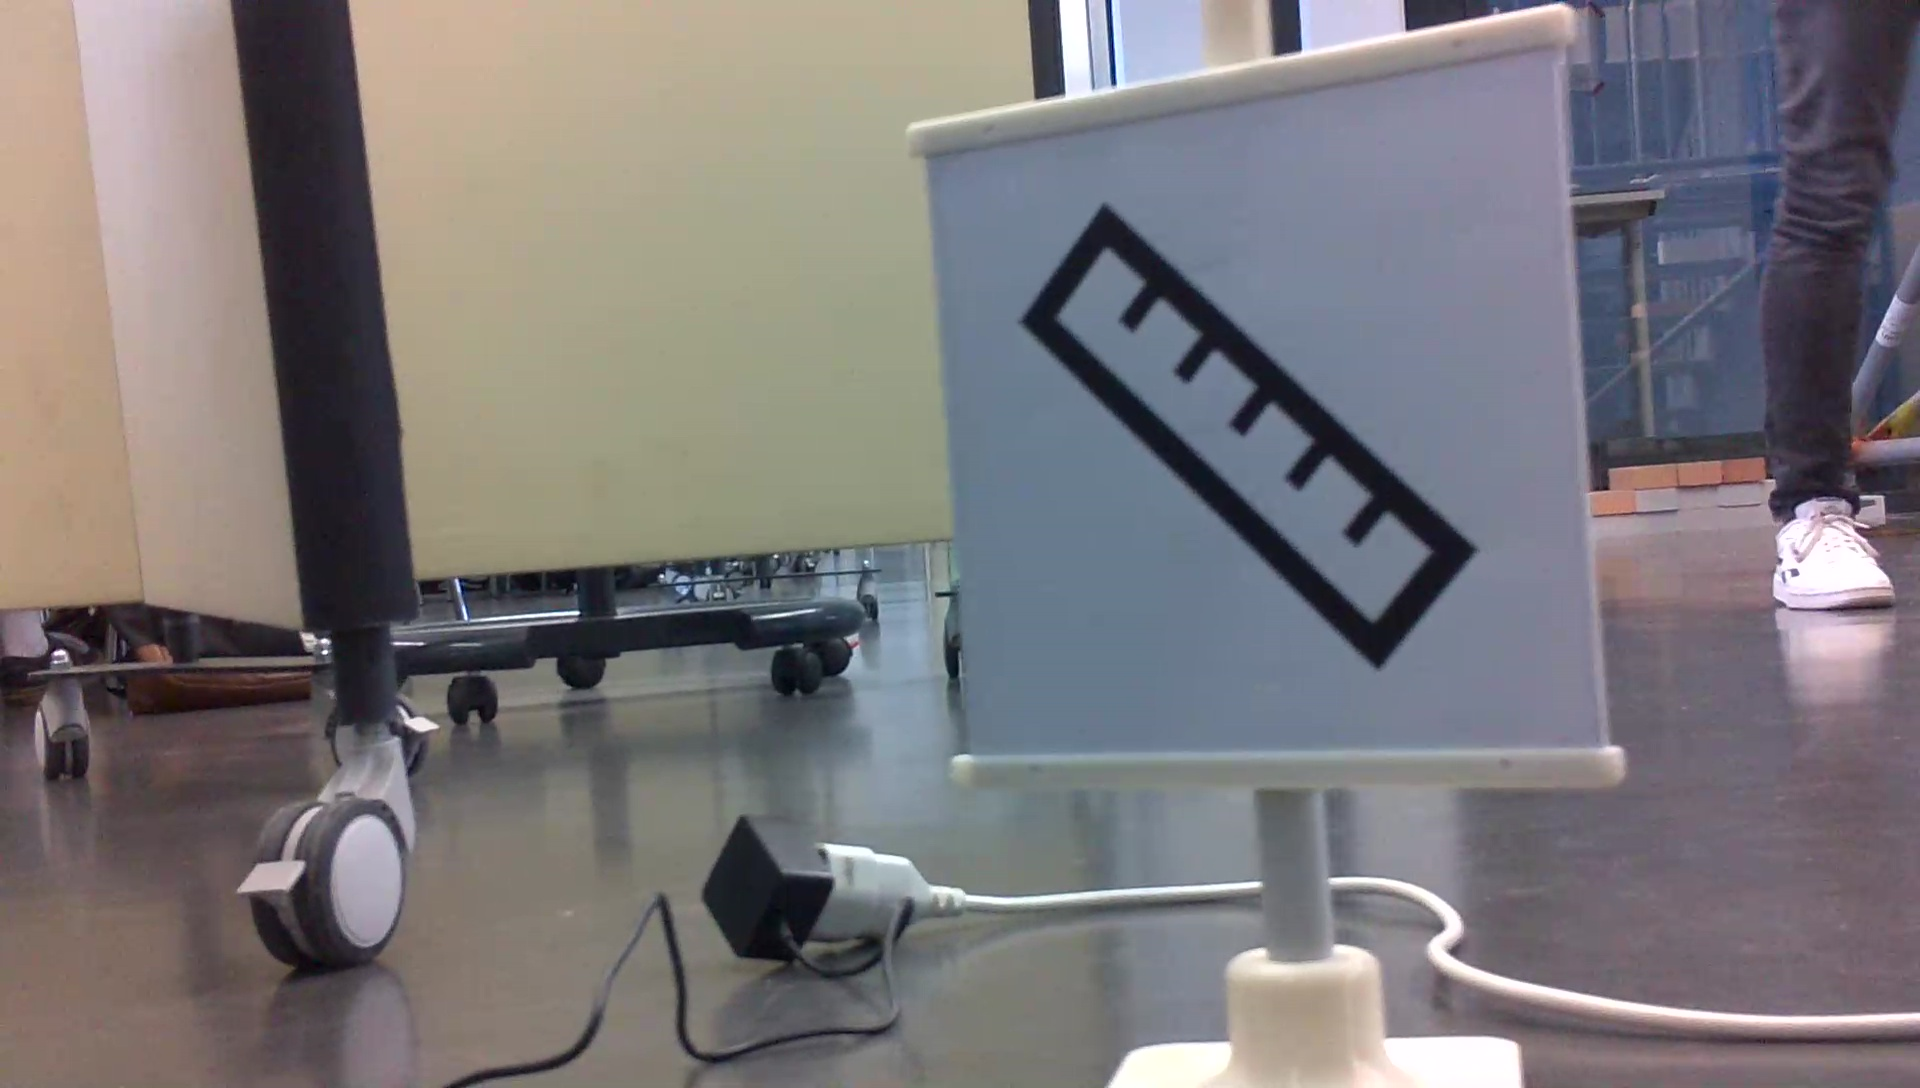ruler: (1022, 175, 1469, 673)
